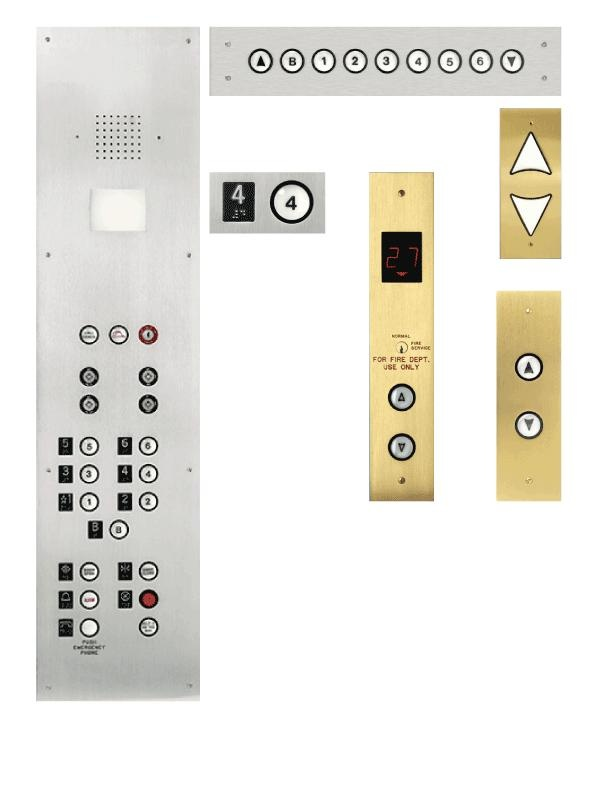1: (311, 48, 337, 74), (79, 492, 99, 512)
2: (343, 48, 369, 73), (138, 491, 159, 512), (115, 491, 134, 512)
3: (374, 48, 400, 74), (57, 463, 76, 484), (80, 464, 99, 484)
4: (269, 180, 313, 224), (221, 180, 257, 224), (406, 49, 431, 74), (116, 463, 134, 484), (139, 464, 158, 483)
5: (437, 49, 462, 74), (79, 436, 100, 457), (57, 436, 75, 457)
6: (469, 49, 493, 74), (139, 435, 159, 456), (115, 435, 134, 457)
B: (279, 47, 305, 74), (108, 519, 129, 540), (87, 520, 103, 539)
alarm: (57, 589, 75, 611)
call: (57, 617, 75, 638)
close: (115, 560, 134, 583)
down: (514, 411, 543, 439), (388, 433, 416, 461), (500, 49, 524, 74)
empty: (86, 184, 148, 235), (78, 617, 100, 638)
keyhole: (138, 394, 159, 414), (138, 325, 158, 345), (79, 394, 99, 414), (79, 367, 99, 386), (139, 367, 158, 386)
led: (378, 229, 424, 285)
open: (58, 561, 74, 582)
s1: (57, 491, 75, 513)
stop: (116, 588, 135, 610)
text_alarm: (79, 589, 100, 610)
text_blur: (79, 561, 101, 583), (138, 560, 160, 582), (138, 616, 160, 637), (139, 589, 159, 609)
unknown: (108, 325, 129, 345), (79, 325, 99, 345)
up: (387, 383, 417, 411), (515, 353, 543, 381), (248, 48, 273, 74)
